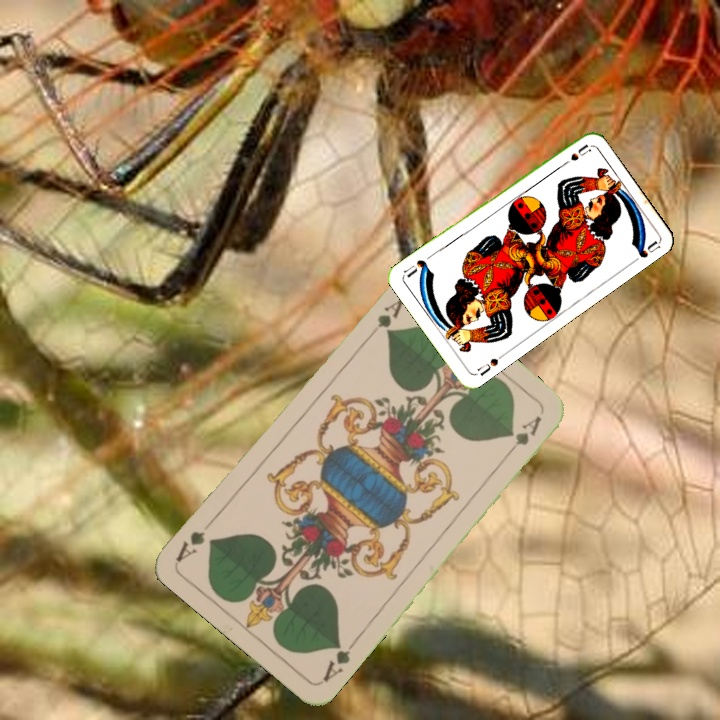GA: (362, 294, 407, 343), (318, 635, 360, 685)
SU: (555, 140, 592, 170), (473, 354, 501, 378)
